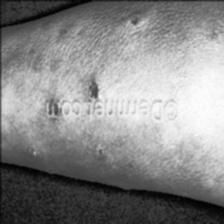Unclassified: (64, 0, 224, 67), (15, 132, 46, 172), (86, 142, 108, 162), (78, 80, 103, 94)
